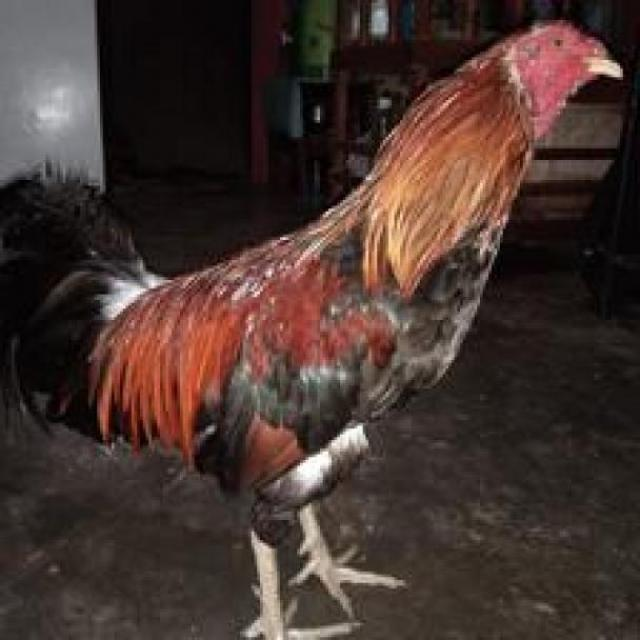Chicken: (11, 17, 640, 615)
